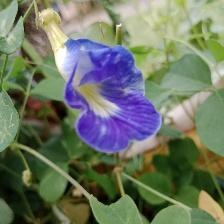shankupushpam: (38, 10, 165, 158)
